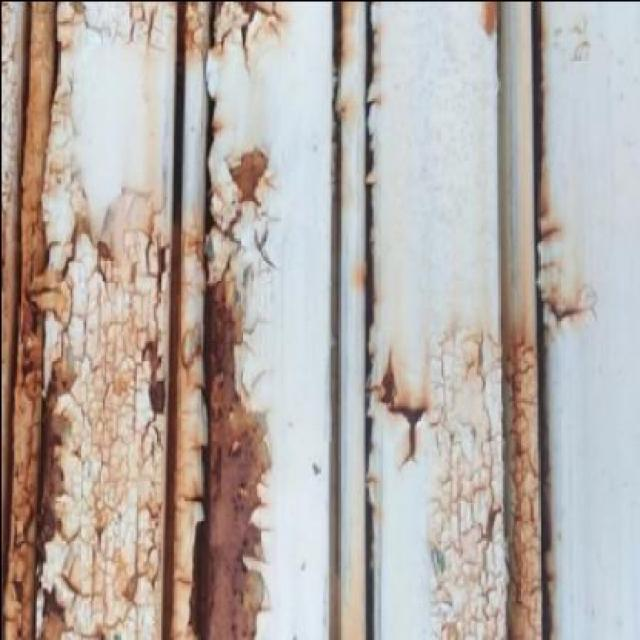Corrosion: (188, 273, 270, 639), (77, 439, 156, 640), (2, 245, 42, 638), (448, 353, 500, 610), (508, 334, 540, 640), (366, 347, 428, 472), (42, 330, 66, 590), (137, 335, 173, 430), (223, 145, 272, 206), (536, 289, 588, 330), (146, 236, 173, 289), (234, 0, 257, 52), (481, 0, 506, 43), (539, 217, 560, 260)
